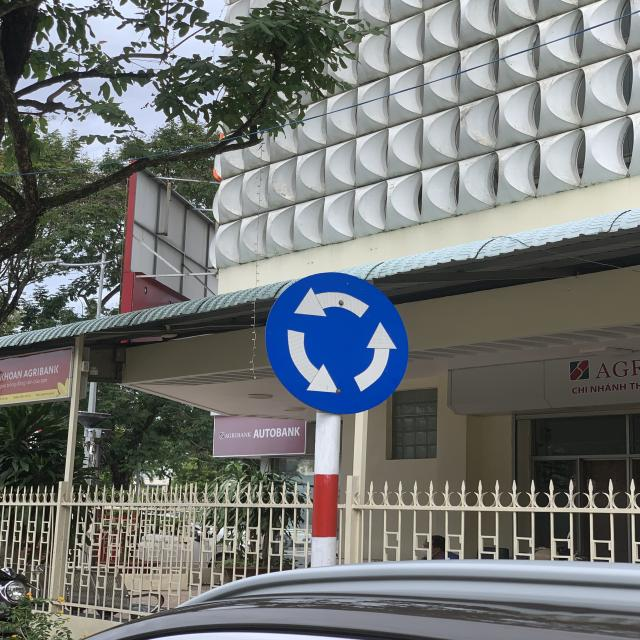Xe_Bus: (264, 272, 412, 416)
